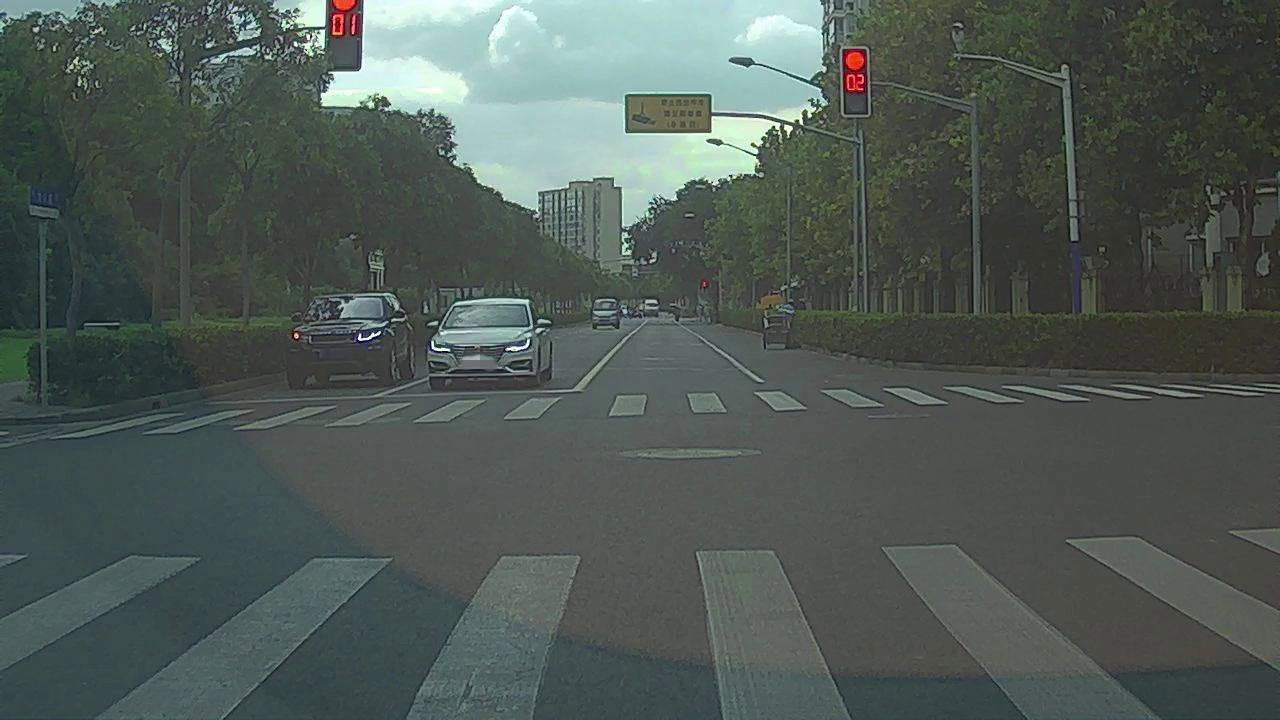traffic_light: (328, 1, 357, 69), (843, 47, 868, 116)
